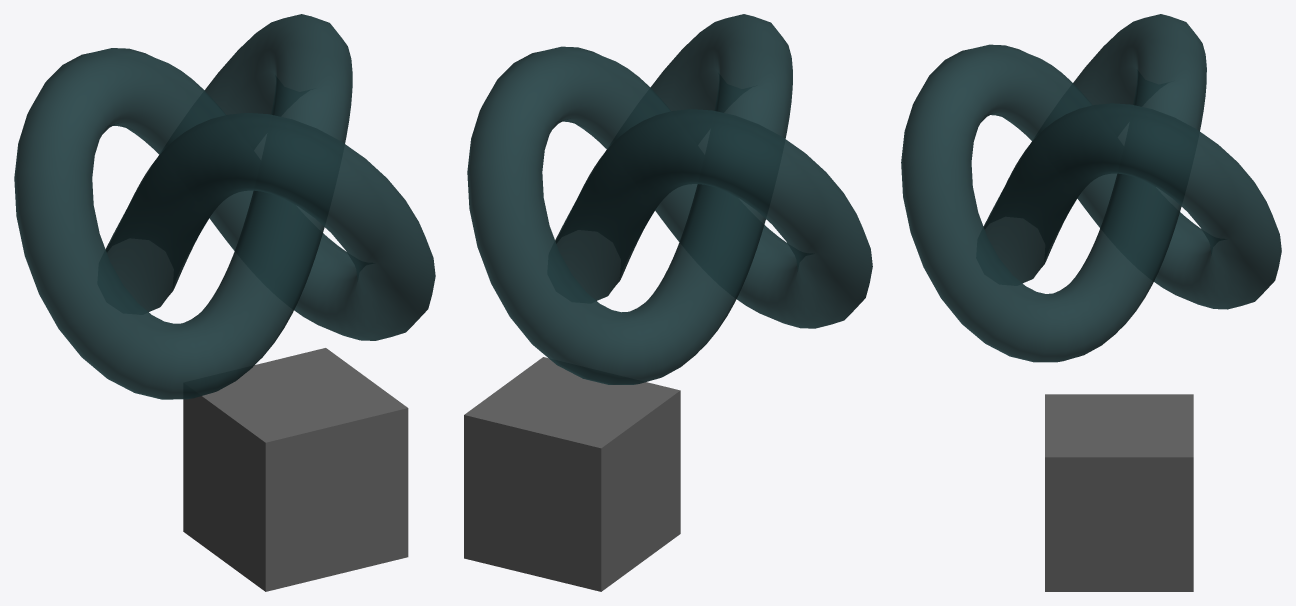
File: knot_plane.dae
3 views of the same model, side by side, from view 1: azimuth 30°, elevation 25°; view 2: azimuth 150°, elevation 25°; view 3: azimuth 270°, elevation 25° (orthographic). The views are drawn at different scales.
Parts seen in each view (by area): view 1: knot_Torus_Knot001, pCube1; view 2: knot_Torus_Knot001, pCube1; view 3: knot_Torus_Knot001, pCube1.
Boxes of the visible parts, x1,y1,x2,y2 form: knot_Torus_Knot001: (14, 14, 435, 399); pCube1: (183, 348, 408, 591); knot_Torus_Knot001: (467, 14, 872, 384); pCube1: (464, 357, 680, 591); knot_Torus_Knot001: (901, 14, 1281, 362); pCube1: (1045, 394, 1193, 591).
Bounding box in the file's own units: 305 × 420 × 314.
